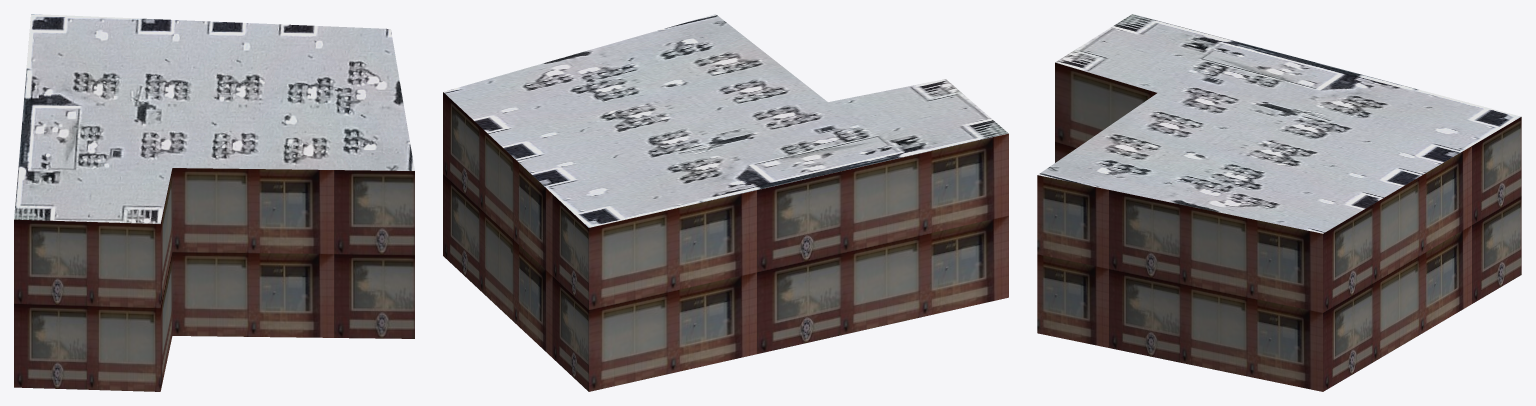
File: ResTex__813.fbx
The picture shows the model from 3 angles, left to right: view 1: azimuth 30°, elevation 25°; view 2: azimuth 150°, elevation 25°; view 3: azimuth 270°, elevation 25°; orthographic projection. The views are drawn at different scales.
Parts seen in each view (by area): view 1: CityEngineMaterial_13_m, CityEngineMaterial_m; view 2: CityEngineMaterial_13_m, CityEngineMaterial_m; view 3: CityEngineMaterial_13_m, CityEngineMaterial_m.
Part boxes in pixels (left/top/right/bottom): CityEngineMaterial_13_m: left=14, top=168, right=414, bottom=391; CityEngineMaterial_m: left=14, top=14, right=414, bottom=223; CityEngineMaterial_13_m: left=443, top=92, right=1008, bottom=391; CityEngineMaterial_m: left=443, top=14, right=1008, bottom=227; CityEngineMaterial_13_m: left=1037, top=62, right=1521, bottom=391; CityEngineMaterial_m: left=1038, top=14, right=1520, bottom=233.
Size of the model in its own units: 17.87 by 6 by 16.64.
Materials: 2 (2 with a texture image).
